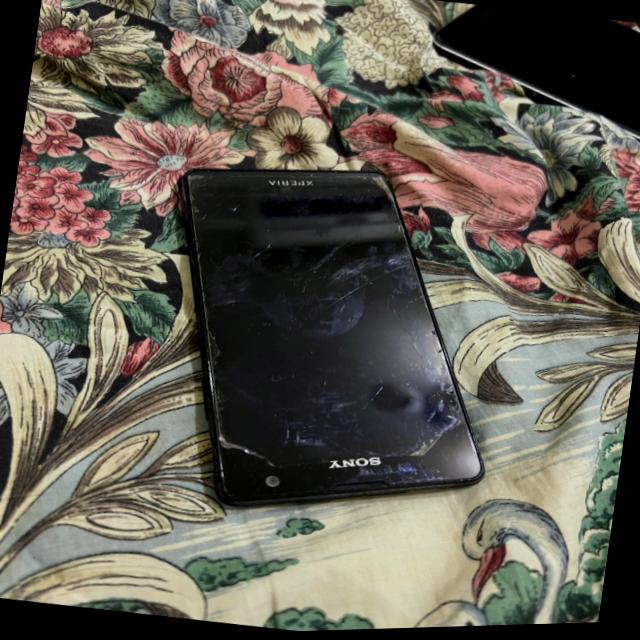Smartphone: (181, 171, 484, 509)
